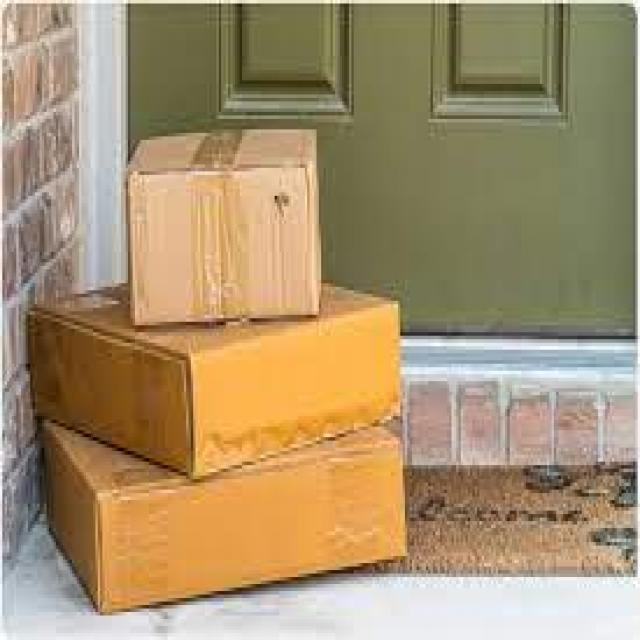box: (46, 397, 412, 622), (20, 268, 400, 481), (122, 128, 330, 324)
